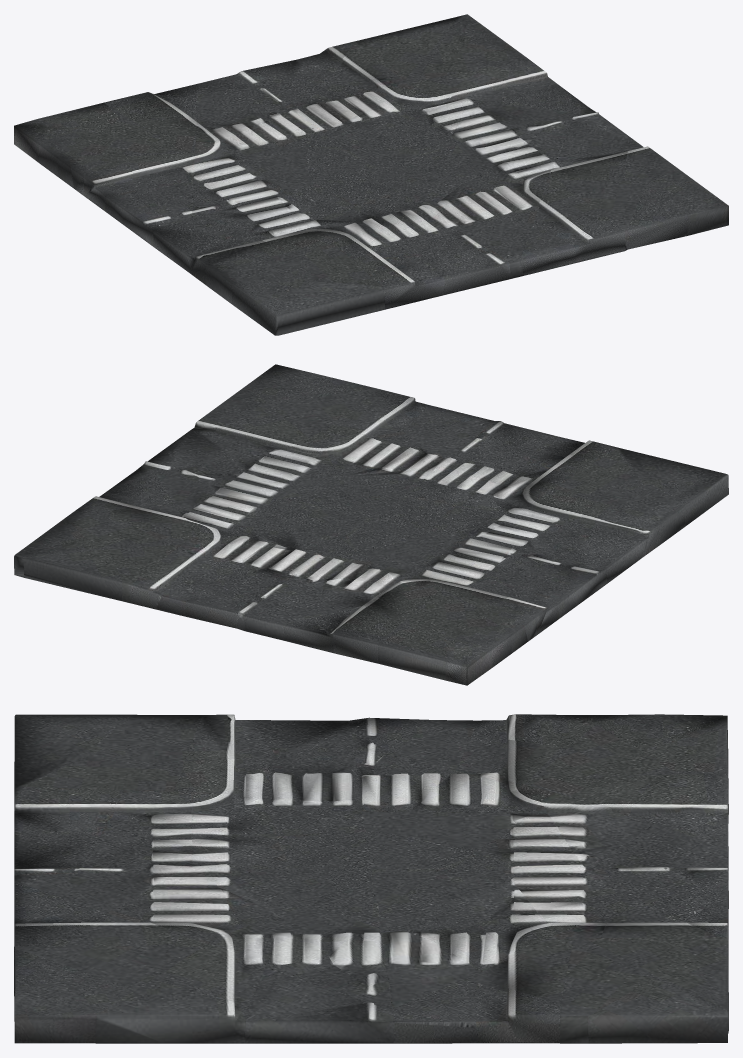
File: roadx_lod1.glb
3 renders of one model, top to bottom at view 1: azimuth 30°, elevation 25°; view 2: azimuth 150°, elevation 25°; view 3: azimuth 270°, elevation 25°, orthographic. The views are drawn at different scales.
Visible parts, largest first — view 1: mesh_node; view 2: mesh_node; view 3: mesh_node.
Boxes of the visible parts, x1,y1,x2,y2 form: mesh_node: (14,14,728,335); mesh_node: (14,364,728,685); mesh_node: (14,714,728,1043).
Size of the model in its own units: 1.9 by 0.3376 by 1.9.
Materials: 1 (1 with a texture image).
